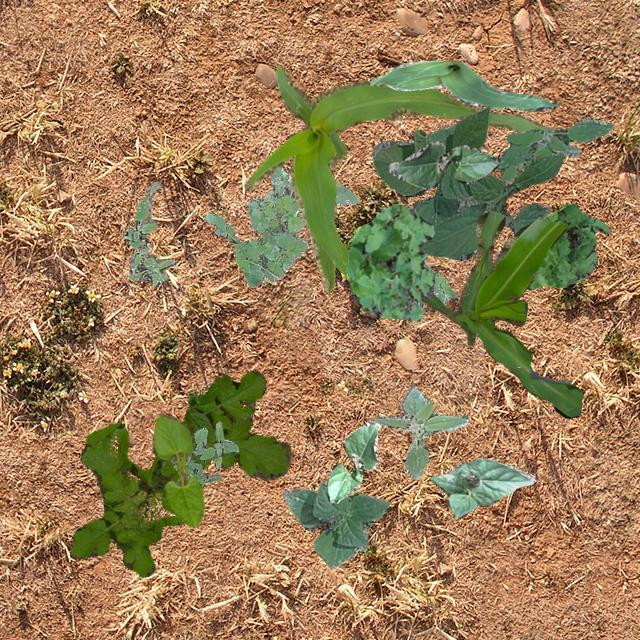crop: (244, 65, 558, 294), (420, 210, 582, 418), (371, 104, 564, 260), (370, 61, 558, 110), (282, 481, 388, 566), (428, 457, 534, 518), (150, 414, 203, 526), (386, 140, 498, 188), (326, 418, 379, 502)
weed: (70, 369, 290, 576), (202, 165, 358, 286), (346, 202, 434, 320), (374, 386, 468, 478), (496, 116, 612, 184), (526, 202, 610, 288), (122, 180, 174, 286), (172, 421, 238, 486), (414, 266, 454, 306)
